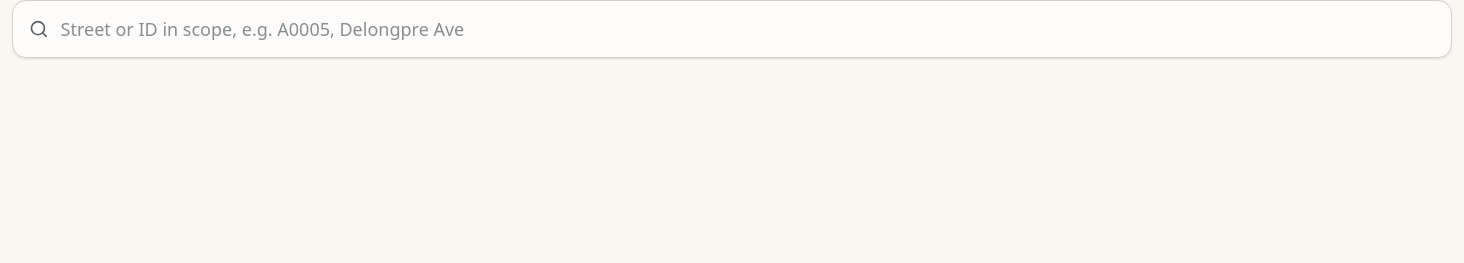
Test: keyboard search › announces and selects options, supports Escape and reopening
Later steps or results of the test are not shown.
Focus the dropdown: (748, 29) top-left (60, 15), bottom-right (1435, 43)
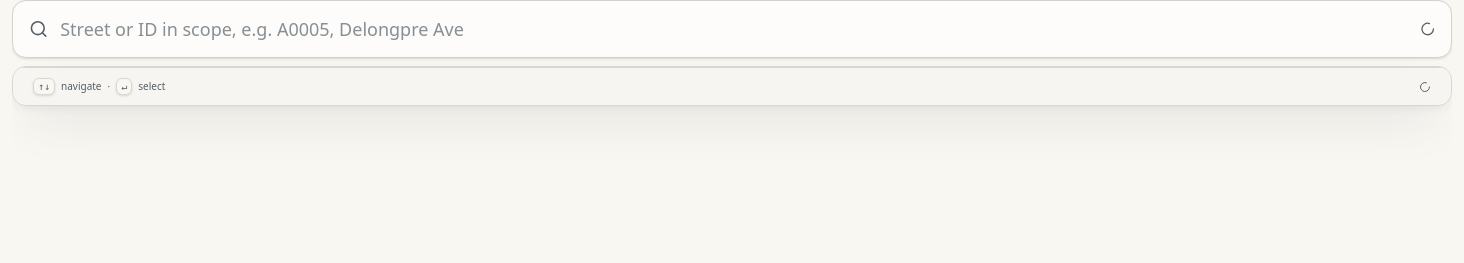
In the dropdown: (734, 29) top-left (60, 15), bottom-right (1408, 43), type "A0005"
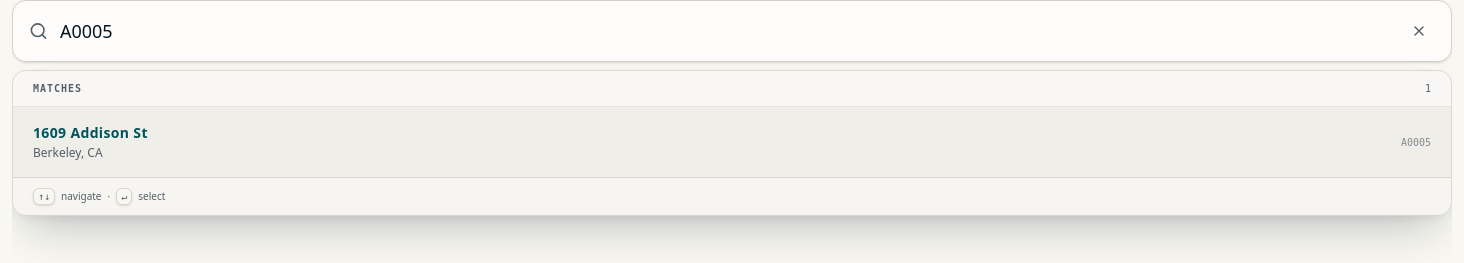
Now the option "1609 Addison St Berkeley, CA A0005" is shown, box top-left (13, 107), bottom-right (1451, 177)
